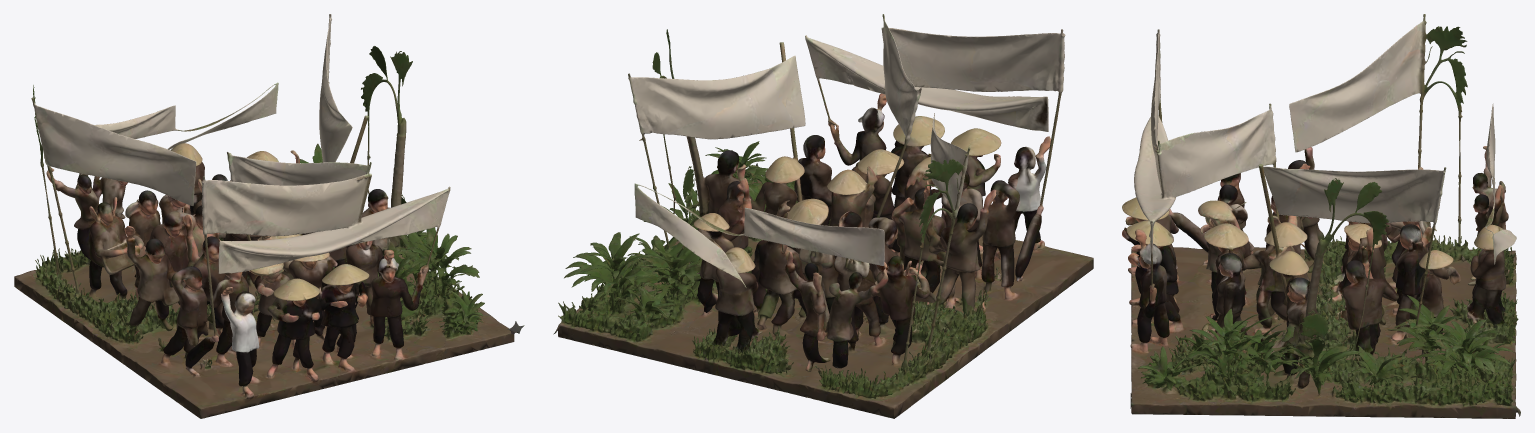
File: mien_nam_dau_tranh.glb
The picture shows the model from 3 angles, left to right: view 1: azimuth 30°, elevation 25°; view 2: azimuth 150°, elevation 25°; view 3: azimuth 270°, elevation 25°; orthographic projection. The views are drawn at different scales.
Bounding box in the file's own units: 1.88 × 1.19 × 1.78.
Materials: 1 (1 with a texture image).
